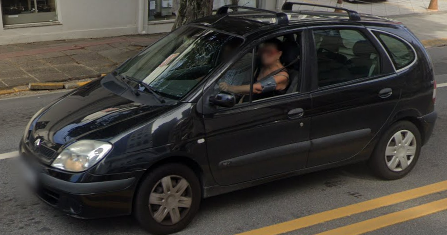car: (16, 9, 437, 233)
